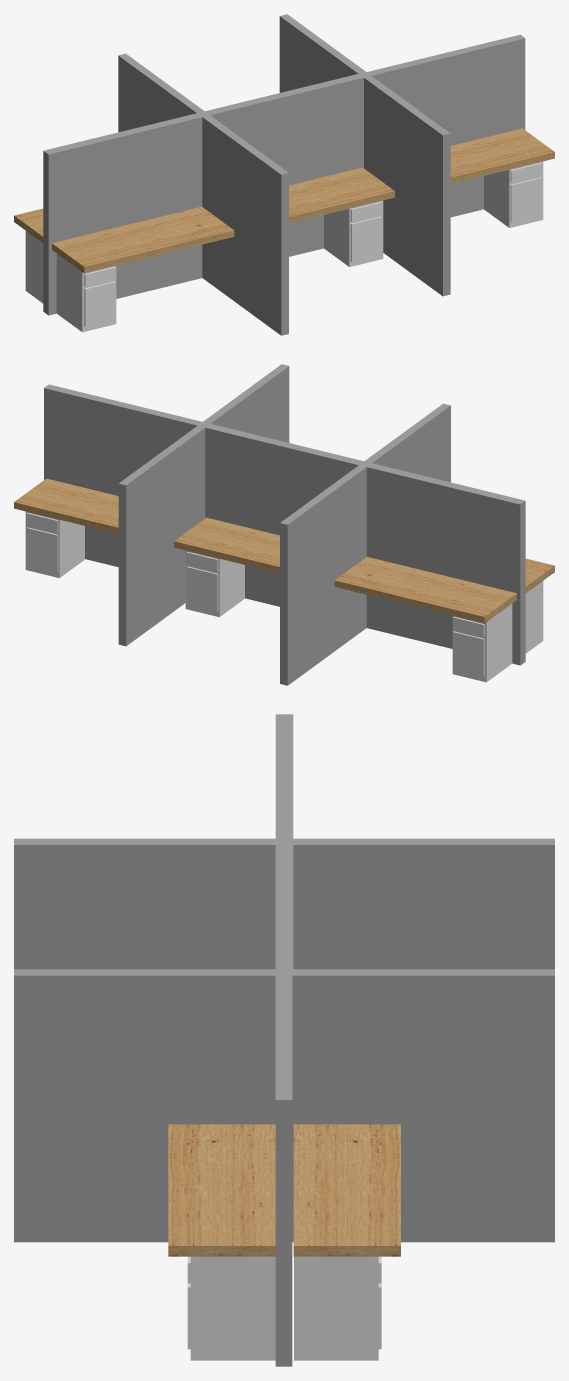
File: cubicle-6.fbx
3 views of the same model, one above another, from view 1: azimuth 30°, elevation 25°; view 2: azimuth 150°, elevation 25°; view 3: azimuth 270°, elevation 25° (orthographic). The views are drawn at different scales.
Parts seen in each view (by area): view 1: Cubicle, polySurface21, polySurface28, polySurface25; view 2: Cubicle, polySurface25, polySurface17, polySurface9, polySurface28, polySurface21, polySurface12, polySurface20, polySurface19, polySurface11, polySurface27, polySurface10 (+2 smaller); view 3: Cubicle, polySurface21, polySurface9, polySurface12.
Part boxes in pixels (x1,y1,x2,y2): Cubicle: (43,14,525,335); polySurface21: (52,128,554,332); polySurface28: (25,231,43,303); polySurface25: (14,208,43,242); Cubicle: (44,364,525,685); polySurface25: (334,557,516,623); polySurface17: (174,517,279,573); polySurface9: (14,478,118,533); polySurface28: (452,603,512,682); polySurface21: (525,558,554,653); polySurface12: (25,511,84,578); polySurface20: (185,550,244,617); polySurface19: (186,566,218,611); polySurface11: (26,527,58,572); polySurface27: (453,631,484,676); polySurface10: (26,513,58,532); Cubicle: (14,714,554,1366); polySurface21: (168,1124,275,1360); polySurface9: (293,1124,400,1256); polySurface12: (294,1256,378,1360).
Bounding box in the file's own units: 15.5 × 5 × 9.19.
